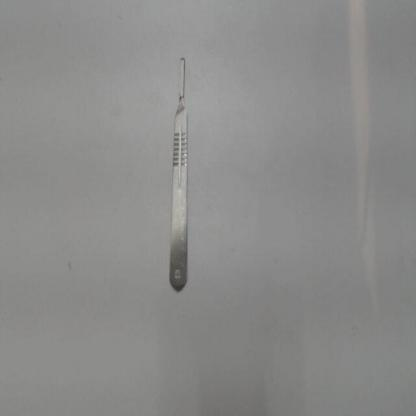No.4 BP Handle: (166, 47, 194, 305)
